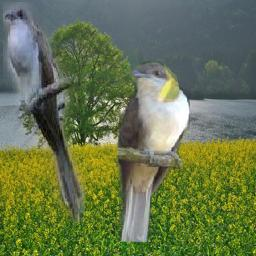Cuckoo: (3, 3, 85, 224), (114, 62, 191, 243)
